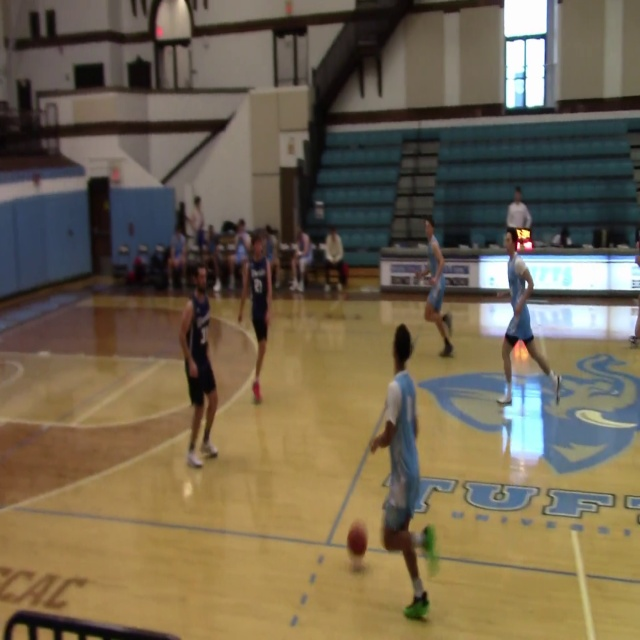Basketball: (347, 519, 368, 556), (188, 363, 199, 378)
